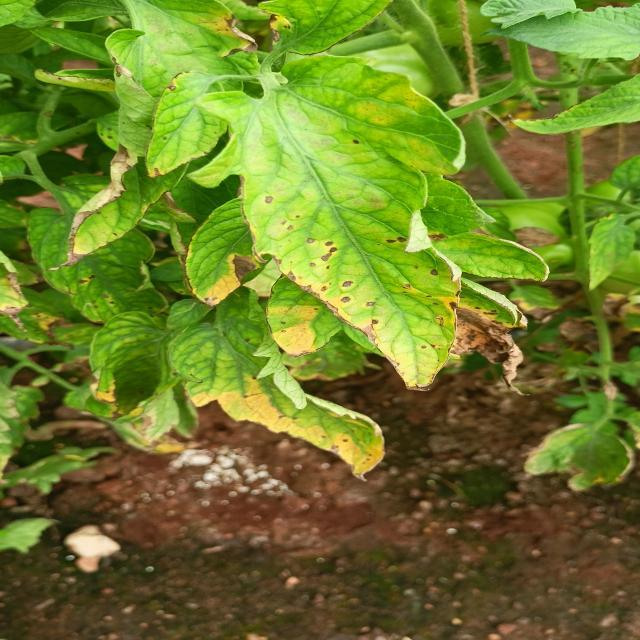Tomato mosaic virus leaf: (252, 96, 466, 394), (138, 66, 228, 182), (452, 281, 534, 397), (180, 198, 264, 310)
